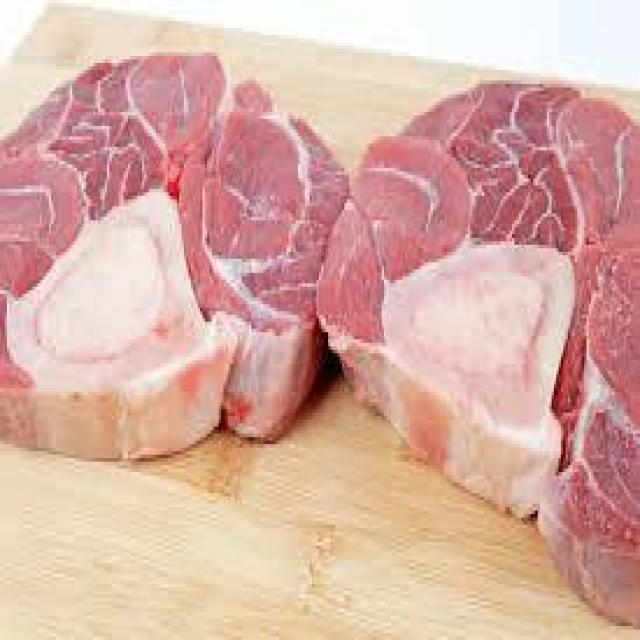beef: (0, 32, 335, 500)
